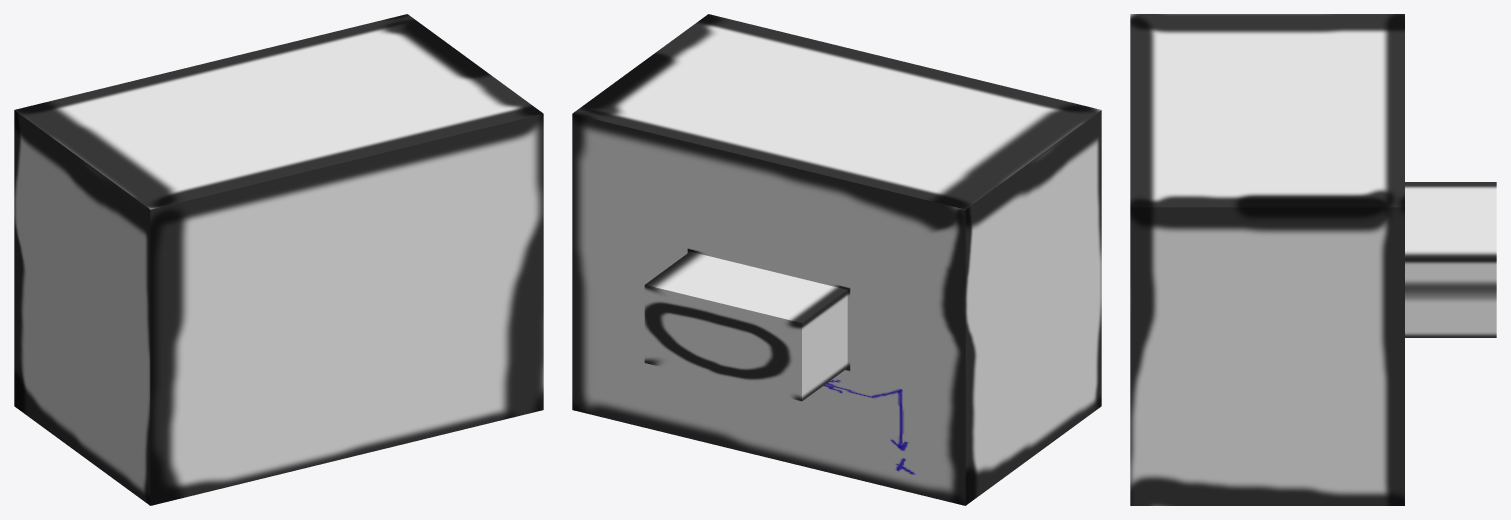
Rendered from camera.obj.
3 views of the same model, side by side, from view 1: azimuth 30°, elevation 25°; view 2: azimuth 150°, elevation 25°; view 3: azimuth 270°, elevation 25° (orthographic).
Parts seen in each view (by area): view 1: Cube; view 2: Cube; view 3: Cube.
Boxes of the visible parts, x1,y1,x2,y2 form: Cube: (14, 14, 543, 505); Cube: (572, 14, 1101, 505); Cube: (1130, 14, 1496, 505).
Size of the model in its own units: 0.5 by 0.36 by 0.4.
Materials: 1 (1 with a texture image).
